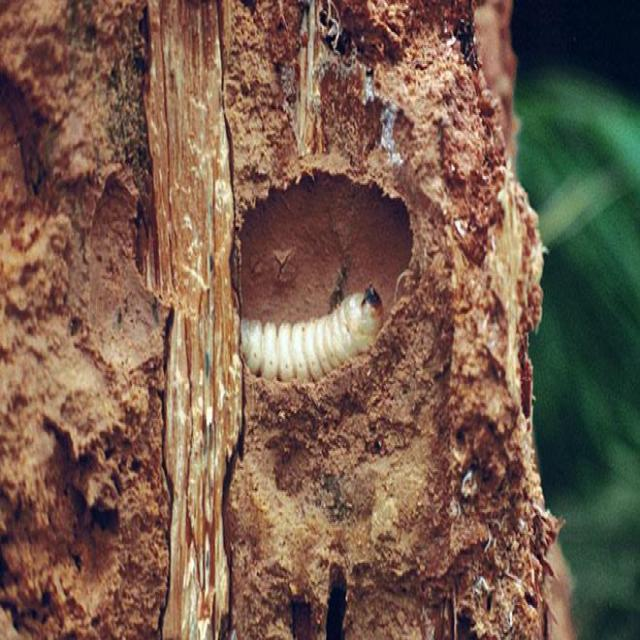Grub-Adult-: (201, 270, 427, 425)
